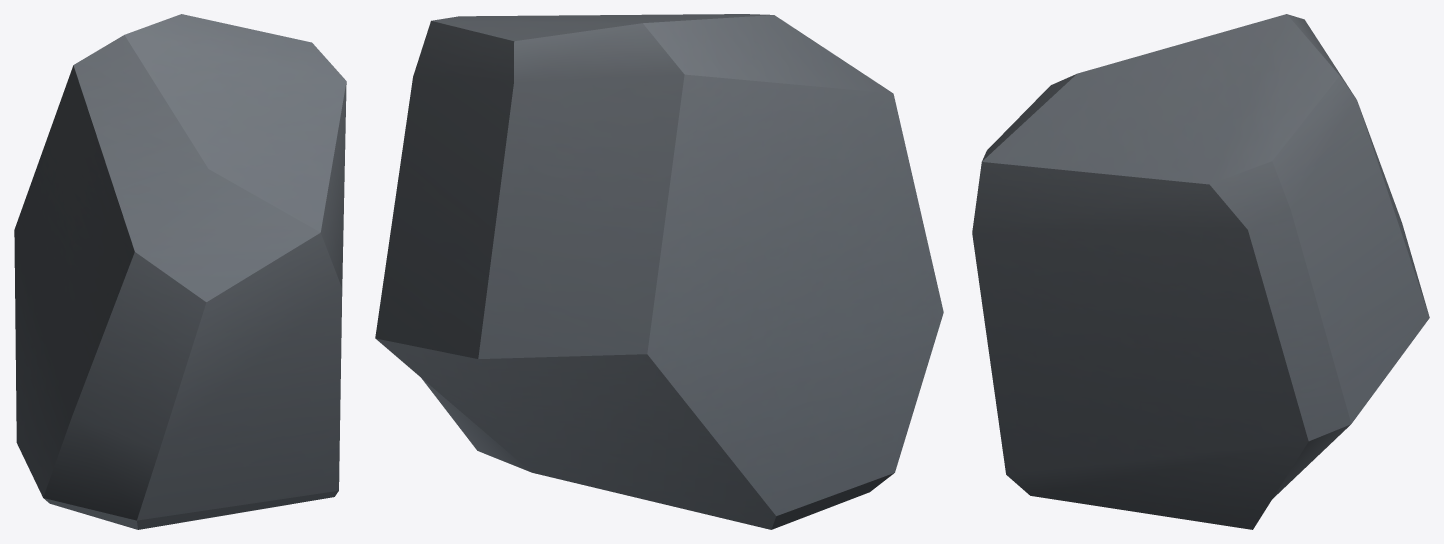
File: rocaCuadrada.fbx
The picture shows the model from 3 angles, left to right: view 1: azimuth 30°, elevation 25°; view 2: azimuth 150°, elevation 25°; view 3: azimuth 270°, elevation 25°; orthographic projection. The views are drawn at different scales.
Visible parts, largest first — view 1: rocaCuadrada; view 2: rocaCuadrada; view 3: rocaCuadrada.
Boxes of the visible parts, x1,y1,x2,y2 form: rocaCuadrada: [14, 14, 346, 529]; rocaCuadrada: [375, 14, 943, 529]; rocaCuadrada: [972, 14, 1429, 529].
Size of the model in its own units: 325 by 352 by 335.
